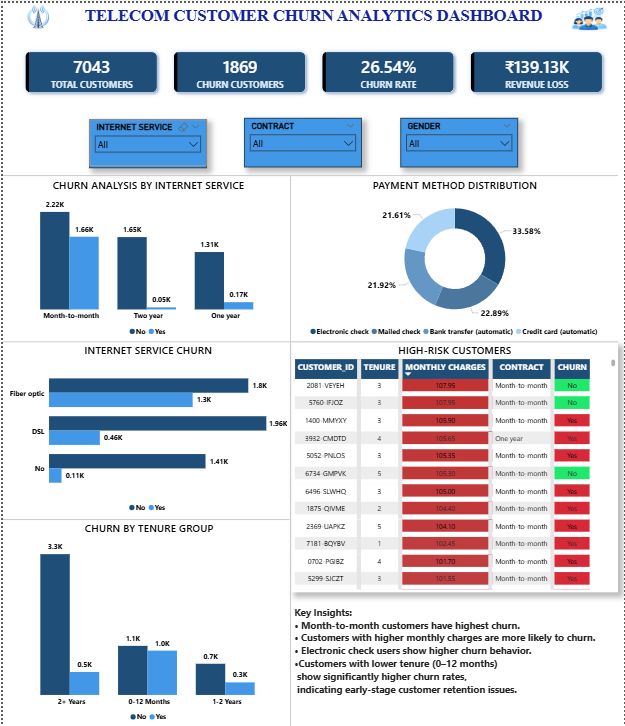

What the dashboard file says about the page in this screenshot:
{"tool":"powerbi","page":{"name":"Page 1","canvas":[1200,1400],"ordinal":0},"visuals":[{"type":"cardVisual","fields":{"Data":["public customers1.Total Customers","public customers1.Churn Customers","public customers1.Churn Rate","public customers1.Revenue Loss"]},"box":[13.4,65.7,1176.1,137.3],"z":0},{"type":"clusteredColumnChart","title":"CHURN ANALYSIS BY INTERNET SERVICE","fields":{"Category":["public customers1.contract"],"Y":["CountNonNull(public customers1.customerid)"],"Series":["public customers1.churn"]},"box":[7.9,339.8,548.4,315.9],"z":1000},{"type":"textbox","box":[140.3,0,920.9,65.7],"z":2000},{"type":"donutChart","title":"PAYMENT METHOD DISTRIBUTION","fields":{"Y":["CountNonNull(public customers1.customerid)"],"Category":["public customers1.paymentmethod"]},"box":[558.3,339.8,631.8,315.9],"z":3000},{"type":"clusteredBarChart","title":"INTERNET SERVICE CHURN","fields":{"Category":["public customers1.internetservice"],"Y":["CountNonNull(public customers1.customerid)"],"Series":["public customers1.churn"]},"box":[7.5,658.2,547.8,337.3],"z":4000},{"type":"tableEx","title":"HIGH-RISK CUSTOMERS","fields":{"Values":["public customers1.customerid","public customers1.tenure","public customers1.monthlycharges","public customers1.contract","public customers1.churn"]},"box":[558.2,658.2,631.3,482.1],"z":5000},{"type":"slicer","fields":{"Values":["public customers1.gender"]},"box":[768.7,222.4,226.9,95.5],"z":6000},{"type":"slicer","fields":{"Values":["public customers1.contract"]},"box":[467.2,222.4,226.9,95.5],"z":7000},{"type":"slicer","fields":{"Values":["public customers1.internetservice"]},"box":[167.2,223.9,226.9,94],"z":8000},{"type":"textbox","box":[558.7,1161,631.3,239.5],"z":9000},{"type":"image","box":[0,0,136.4,55.5],"z":10000},{"type":"image","box":[1061,0,139.1,65.6],"z":11000},{"type":"shape","box":[0,329.8,1190.1,9.9],"z":12000},{"type":"shape","box":[553.9,333.8,4.8,1066.7],"z":13000},{"type":"shape","box":[0,651.7,1190.1,9.9],"z":14000},{"type":"shape","box":[0,995.4,554.3,6],"z":15000},{"type":"clusteredColumnChart","title":"CHURN BY TENURE GROUP","fields":{"Category":["public customers1.Tenure Group"],"Y":["CountNonNull(public customers1.customerid)"],"Series":["public customers1.churn"]},"box":[7.3,1001.4,551.5,399.1],"z":16000}]}

Visuals, with their boxes in screenshot pixels (x1, y1, x2, y2), scaled from the page's 1200x1400 canvas onto the 625x726 screenshot:
cardVisual - public customers1.Total Customers x public customers1.Churn Customers: (7,34,620,105)
"CHURN ANALYSIS BY INTERNET SERVICE" clusteredColumnChart: (4,176,290,340)
textbox: (73,0,553,34)
"PAYMENT METHOD DISTRIBUTION" donutChart: (291,176,620,340)
"INTERNET SERVICE CHURN" clusteredBarChart: (4,341,289,516)
"HIGH-RISK CUSTOMERS" tableEx: (291,341,620,591)
slicer - public customers1.gender: (400,115,519,165)
slicer - public customers1.contract: (243,115,362,165)
slicer - public customers1.internetservice: (87,116,205,165)
textbox: (291,602,620,725)
image: (0,0,71,29)
image: (553,0,624,34)
shape: (0,171,620,176)
shape: (288,173,291,725)
shape: (0,338,620,343)
shape: (0,516,289,519)
"CHURN BY TENURE GROUP" clusteredColumnChart: (4,519,291,725)
